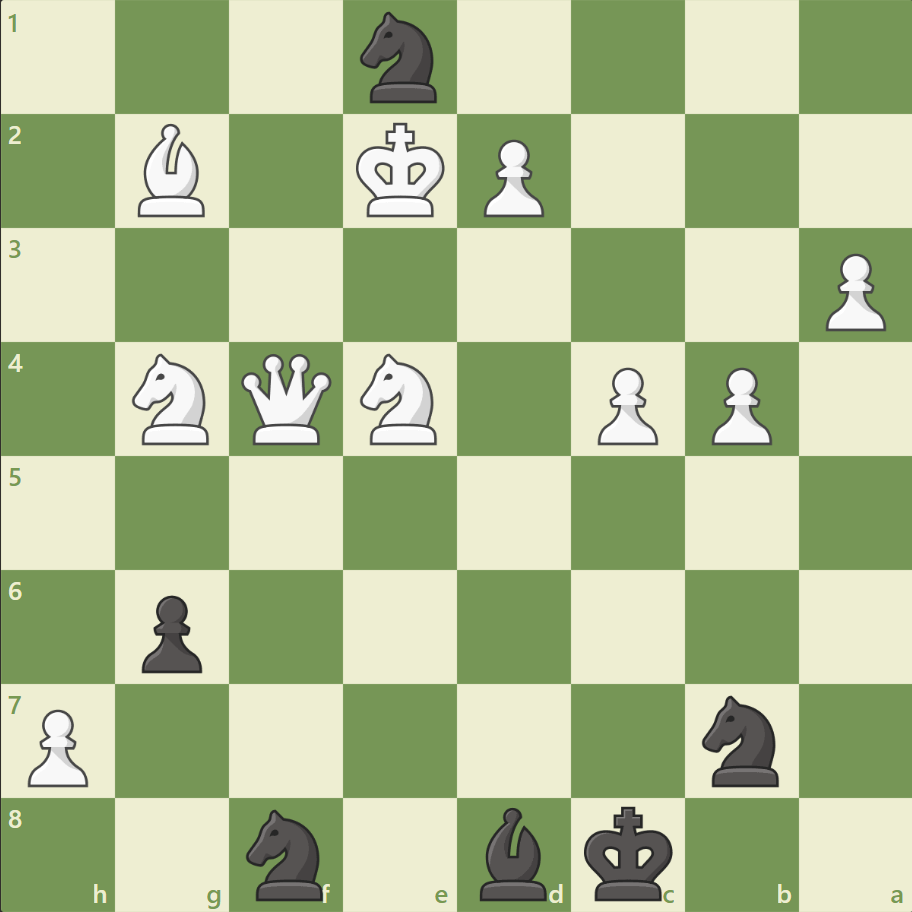B: (131, 120, 215, 222)
K: (351, 117, 451, 225)
N: (351, 348, 449, 450), (124, 348, 222, 450)
P: (20, 700, 95, 791), (701, 359, 776, 450), (474, 132, 549, 223), (588, 359, 662, 450), (815, 246, 889, 337)
Q: (237, 349, 336, 449)
b: (471, 801, 555, 904)
k: (579, 798, 679, 906)
n: (351, 7, 449, 110), (692, 688, 789, 791), (238, 802, 335, 904)
p: (133, 586, 208, 677)
